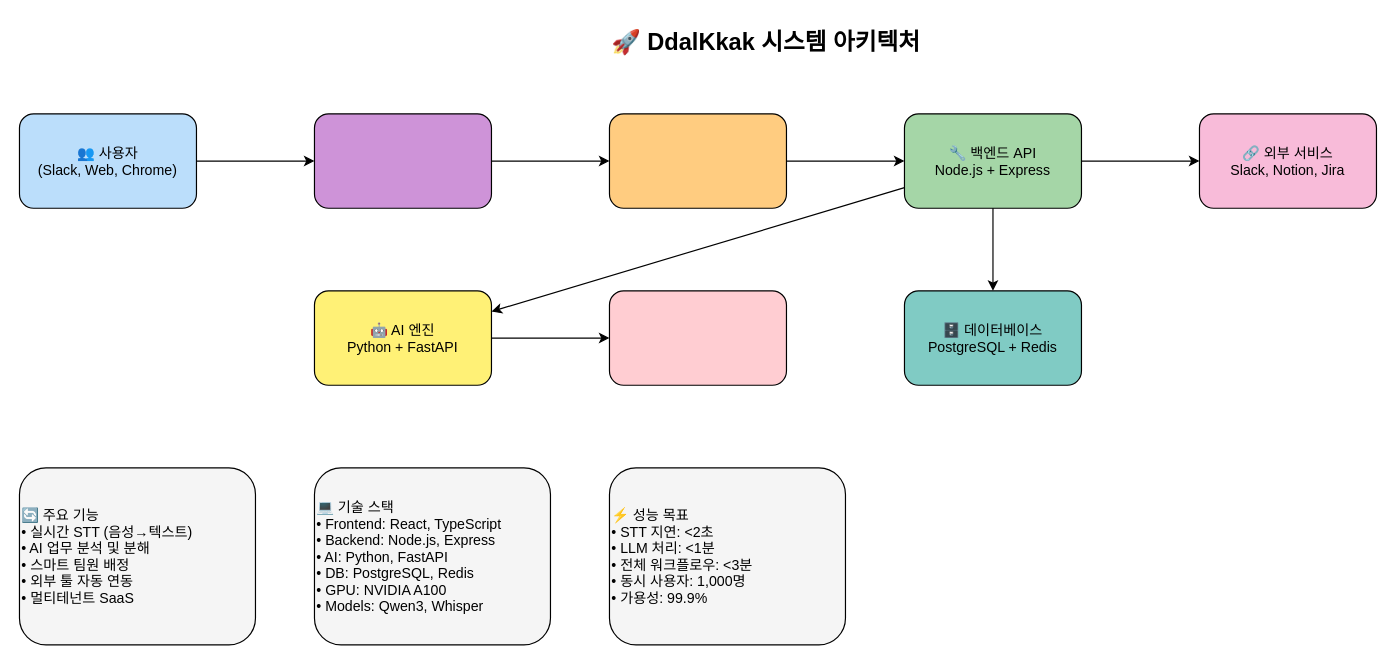
The diagram is 1396 pixels wide and 664 high, and some of its shapes have lost their labels. The shapes that lost their labels are listed below. From the top down, each one's box as (x1, y1, x2, y2) in pixels, then its label:
(313, 113, 491, 208): 🎨 프론트엔드 Slack App + React
(608, 113, 786, 208): 🔀 API Gateway 인증 + 라우팅
(608, 290, 786, 385): 🚀 GPU 클러스터 LLM + STT
